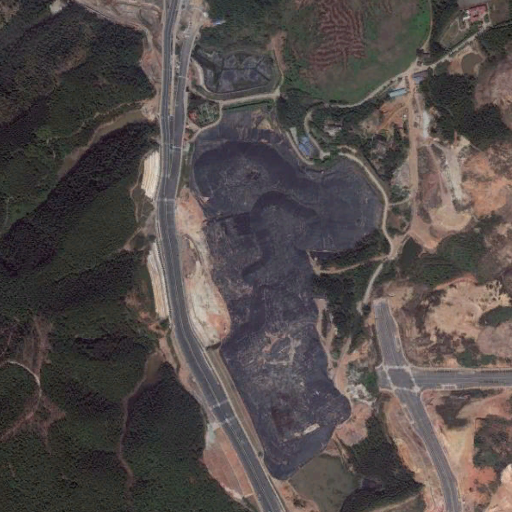lf: (195, 107, 387, 480)
